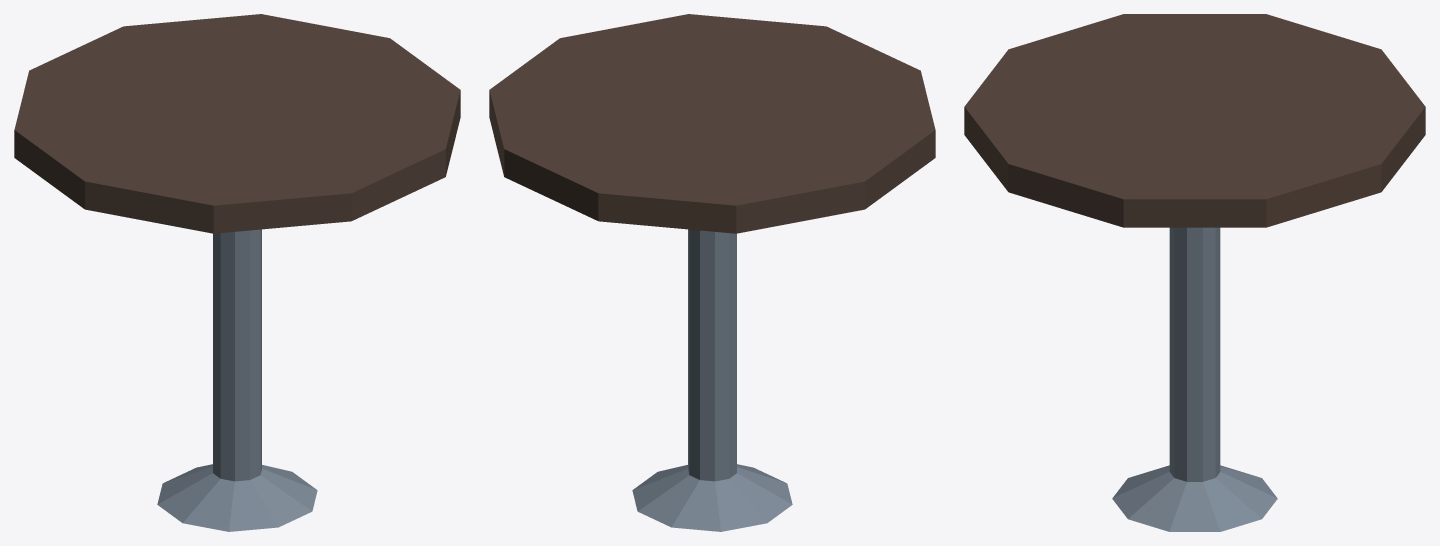
File: RoundTable.fbx
3 renders of one model, left to right at view 1: azimuth 30°, elevation 25°; view 2: azimuth 150°, elevation 25°; view 3: azimuth 270°, elevation 25°, orthographic.
Visible parts, largest first — view 1: RoundTable; view 2: RoundTable; view 3: RoundTable.
Part boxes in pixels (x1,y1,x2,y2): RoundTable: [14, 14, 460, 531]; RoundTable: [489, 14, 935, 531]; RoundTable: [964, 14, 1425, 531].
Bounding box in the file's own units: 294 × 290 × 310.
